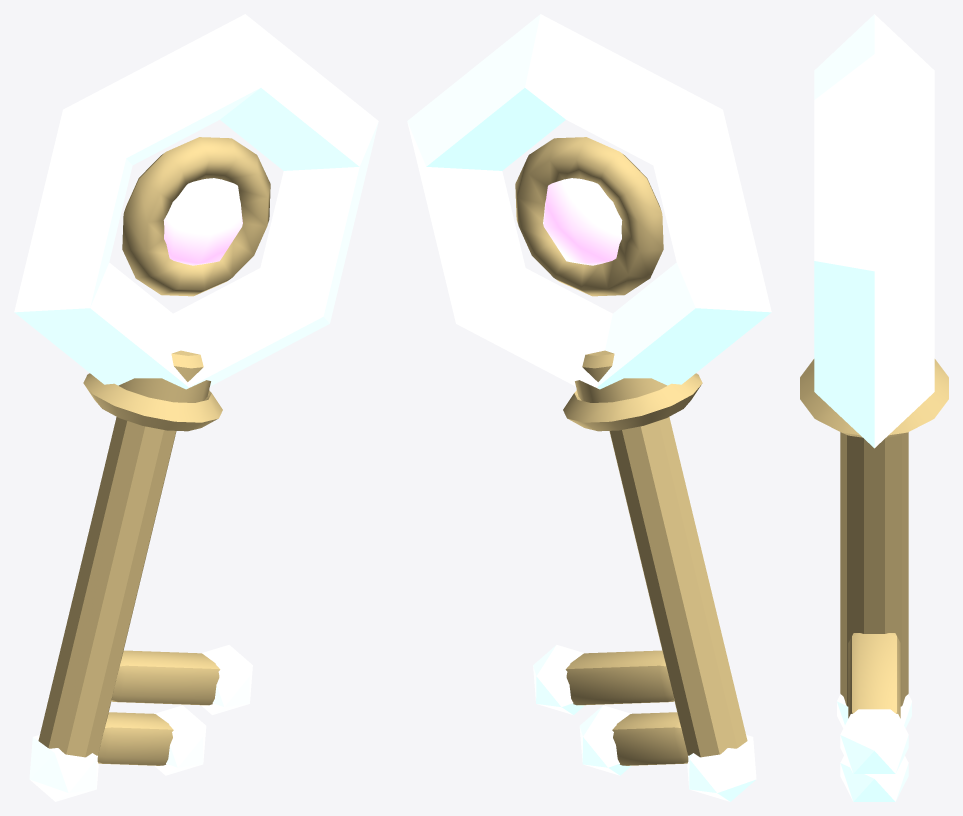
Rendered from key.glb.
The picture shows the model from 3 angles, left to right: view 1: azimuth 30°, elevation 25°; view 2: azimuth 150°, elevation 25°; view 3: azimuth 270°, elevation 25°; orthographic projection. The views are drawn at different scales.
Parts seen in each view (by area): view 1: key; view 2: key; view 3: key.
Boxes of the visible parts, x1=… form: key: x1=14, y1=14, x2=378, y2=801; key: x1=407, y1=14, x2=771, y2=801; key: x1=800, y1=14, x2=948, y2=801.
Bounding box in the file's own units: 0.2222 × 0.4322 × 0.0741.
